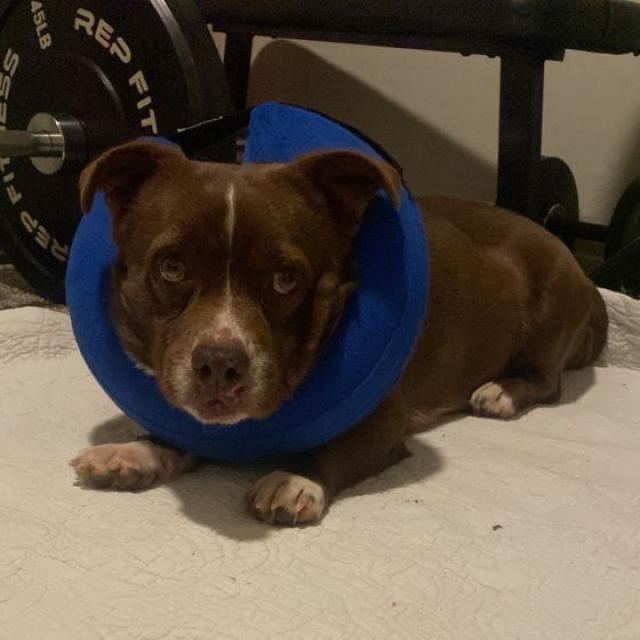corgi_dog: (59, 110, 416, 438)
